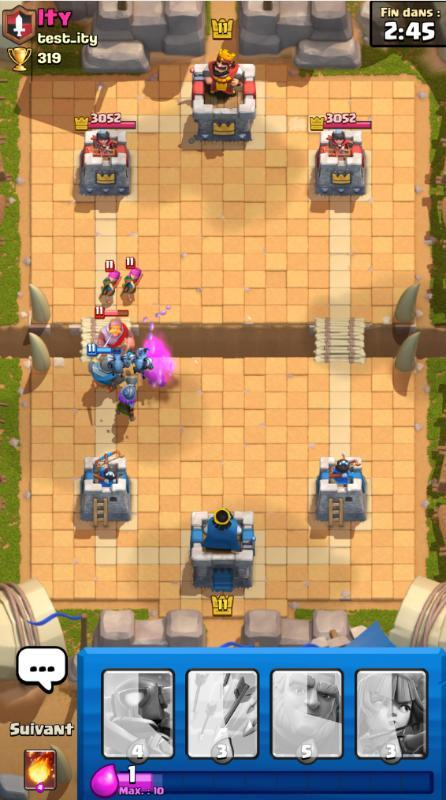archere: (120, 256, 145, 303), (98, 260, 122, 304)
chevalier: (95, 305, 137, 359), (87, 343, 126, 393)
gargouille: (130, 347, 154, 380), (108, 351, 131, 378)
mousquetaire: (116, 376, 139, 422)
